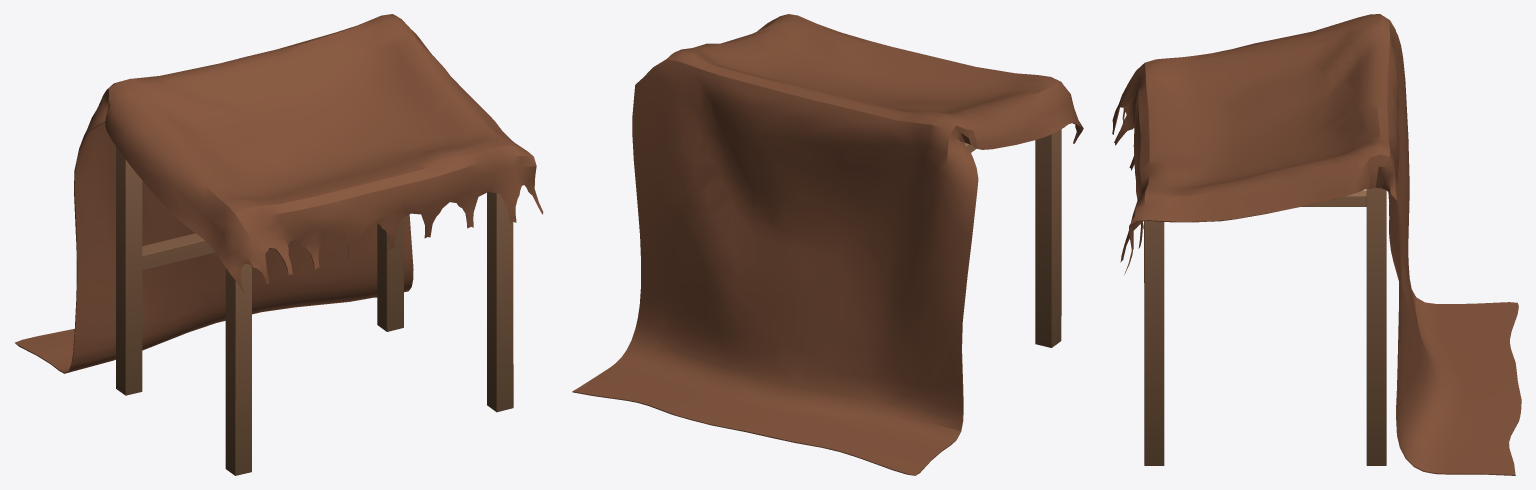
The model's file is Tent_4.fbx.
The picture shows the model from 3 angles, left to right: view 1: azimuth 30°, elevation 25°; view 2: azimuth 150°, elevation 25°; view 3: azimuth 270°, elevation 25°; orthographic projection. The views are drawn at different scales.
Visible parts, largest first — view 1: Tent_4; view 2: Tent_4; view 3: Tent_4.
Boxes of the visible parts, x1,y1,x2,y2 form: Tent_4: (14, 14, 543, 475); Tent_4: (572, 14, 1083, 475); Tent_4: (1112, 14, 1521, 475).
Size of the model in its own units: 291 by 248 by 292.
